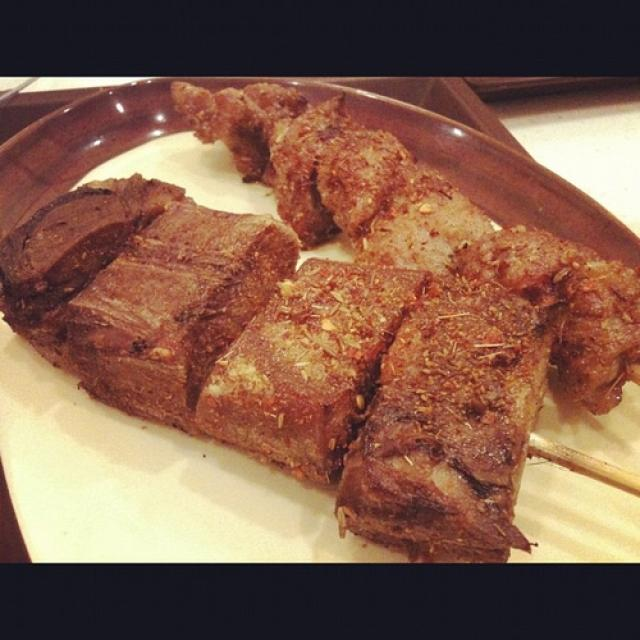烧串烤肉: (19, 79, 627, 544)
